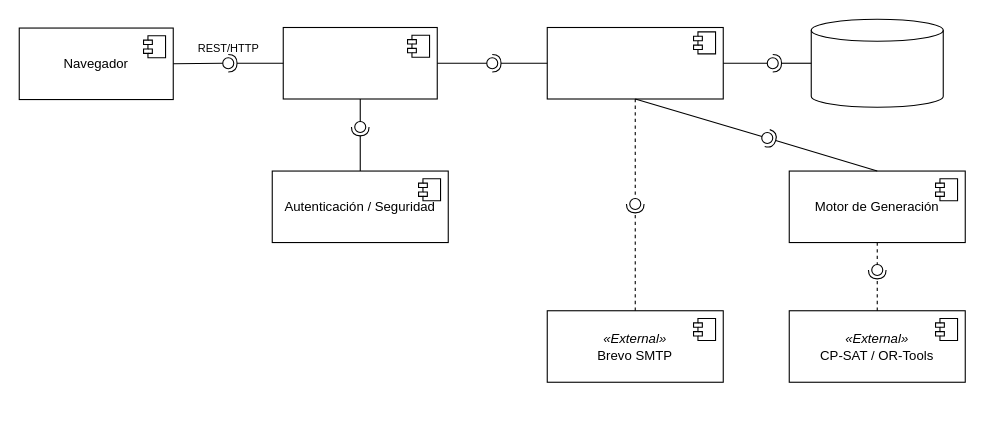
Image size: 985x432. Some labels were removed from this diagram. The shapes that lost their labels are listed below. From the top down, each one's centre as x and y in pixels, then its label:
(x=359, y=62): API REST
(x=634, y=62): Aplicaciones de Dominio
(x=876, y=62): PostgreSQL
